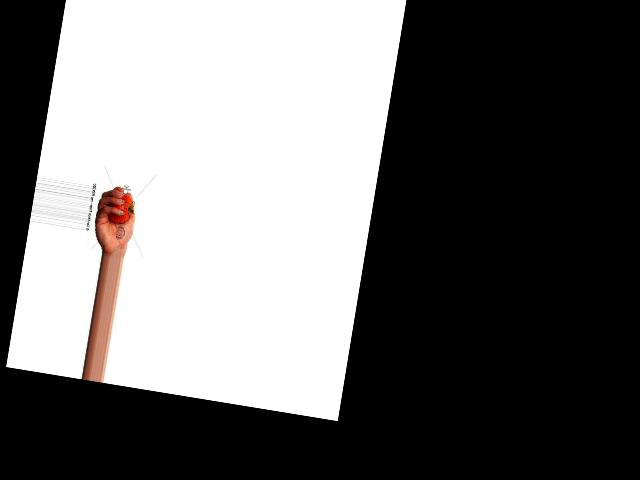tomato: (105, 191, 135, 224)
